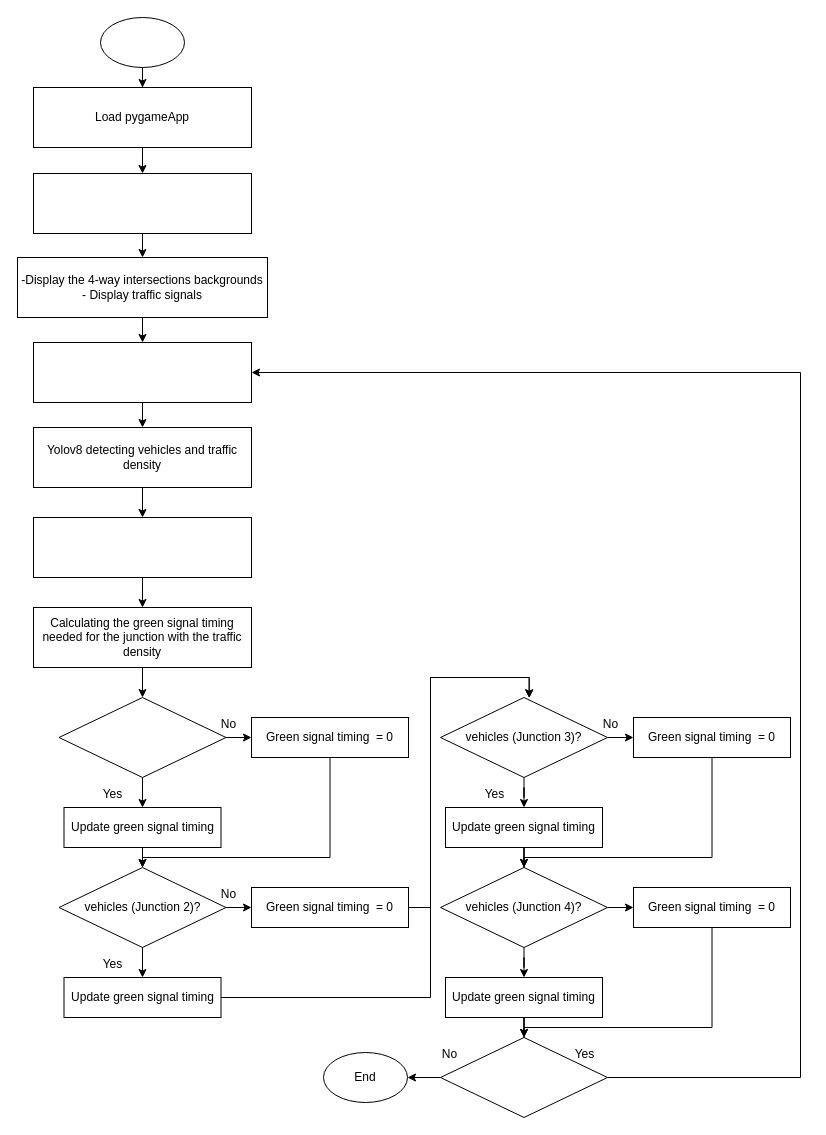
Image size: 826x1135. Some labels were removed from this diagram. The shapes that lost their labels are listed below. From the top down, each one's centre as x and y in pixels, then its label:
pixel 142 42: Start
pixel 142 203: Initialize the parameter
pixel 142 372: Input videos (Threading)
pixel 142 547: Generate detected numbers and types of vehicles to respective junction
pixel 142 737: vehicles (Junction 1)?
pixel 524 1077: vehicles (All junction)?
